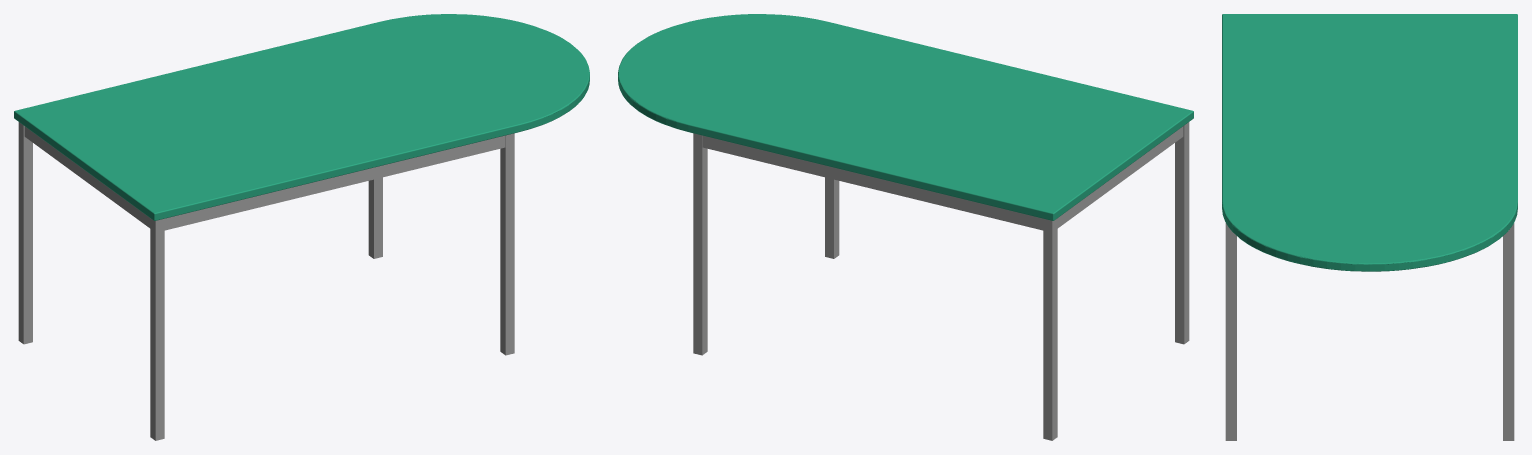
The model's file is conference_form36_160x80_FINAL.fbx.
The picture shows the model from 3 angles, left to right: view 1: azimuth 30°, elevation 25°; view 2: azimuth 150°, elevation 25°; view 3: azimuth 270°, elevation 25°; orthographic projection. The views are drawn at different scales.
Parts seen in each view (by area): view 1: drewno, metal2; view 2: drewno, metal2; view 3: drewno, metal2.
Boxes of the visible parts, x1=… form: drewno: x1=14, y1=14, x2=589, y2=220; metal2: x1=18, y1=122, x2=514, y2=437; drewno: x1=618, y1=14, x2=1193, y2=220; metal2: x1=693, y1=122, x2=1189, y2=437; drewno: x1=1222, y1=14, x2=1517, y2=271; metal2: x1=1225, y1=223, x2=1514, y2=437.
Bounding box in the file's own units: 160 × 72 × 80.
